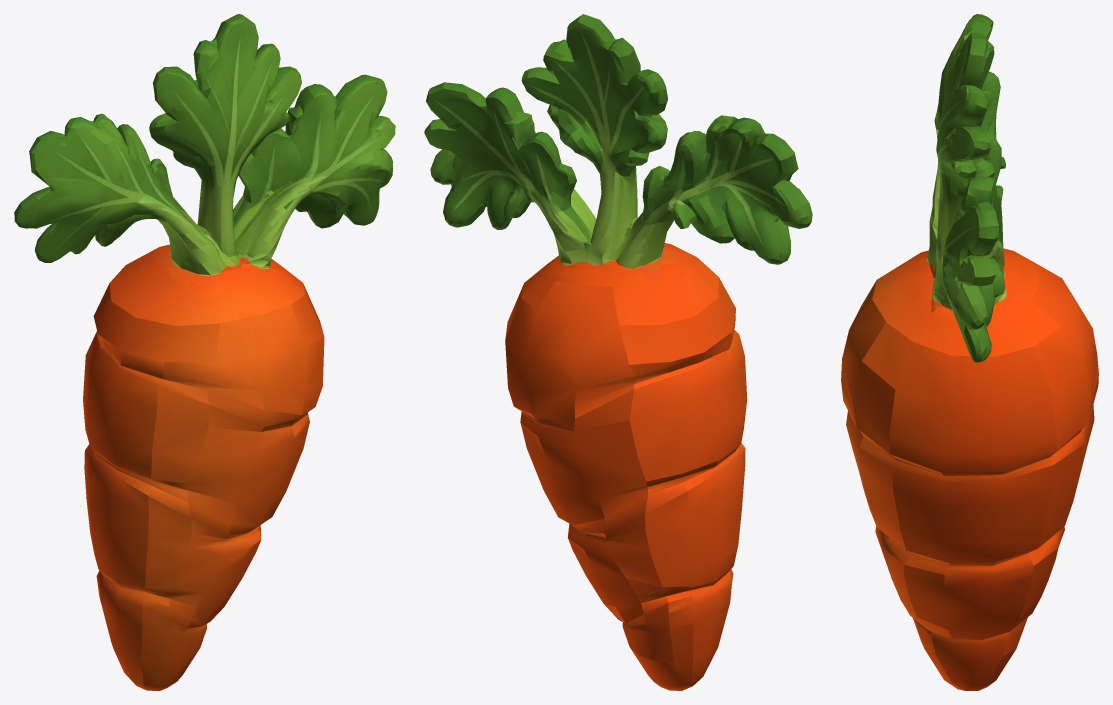
The model's file is havuc.glb.
3 views of the same model, side by side, from view 1: azimuth 30°, elevation 25°; view 2: azimuth 150°, elevation 25°; view 3: azimuth 270°, elevation 25° (orthographic). The views are drawn at different scales.
Visible parts, largest first — view 1: Mesh0; view 2: Mesh0; view 3: Mesh0.
Boxes of the visible parts, bbox=[...] form: Mesh0: bbox=[14, 14, 395, 690]; Mesh0: bbox=[424, 14, 812, 690]; Mesh0: bbox=[841, 14, 1098, 690].
Size of the model in its own units: 1.16 by 1.9 by 0.6361.
1 material, 1 textured.
